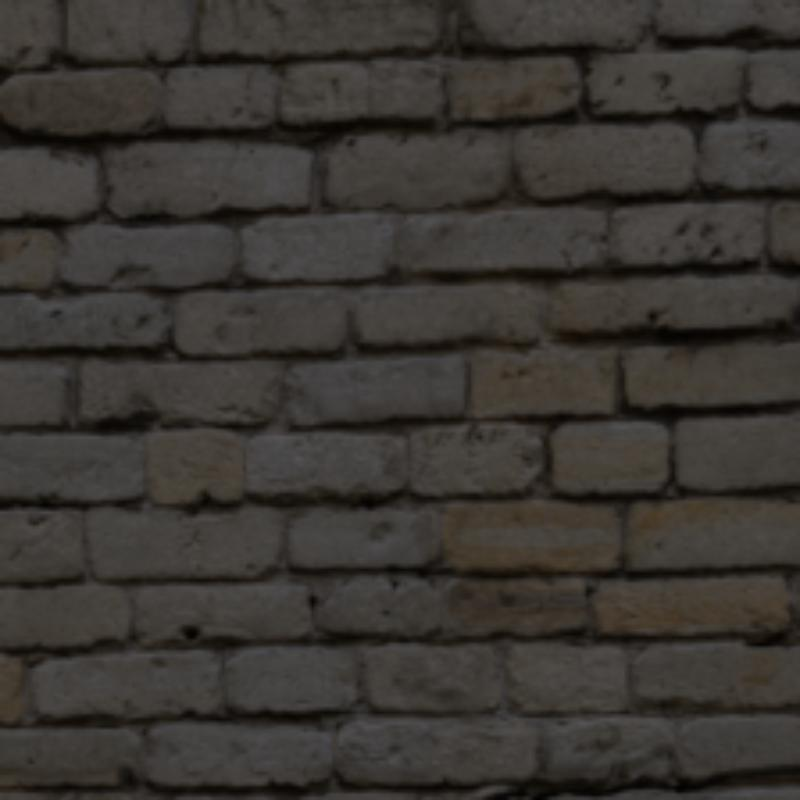crack: (486, 764, 796, 796)
